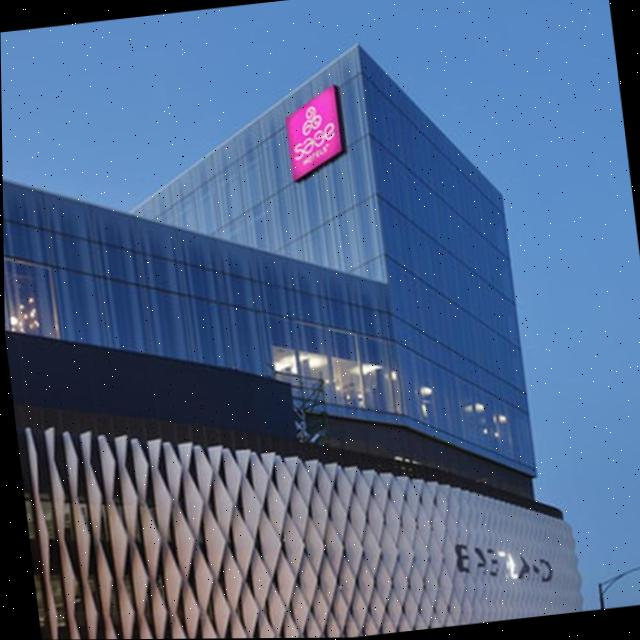building: (0, 24, 586, 640)
